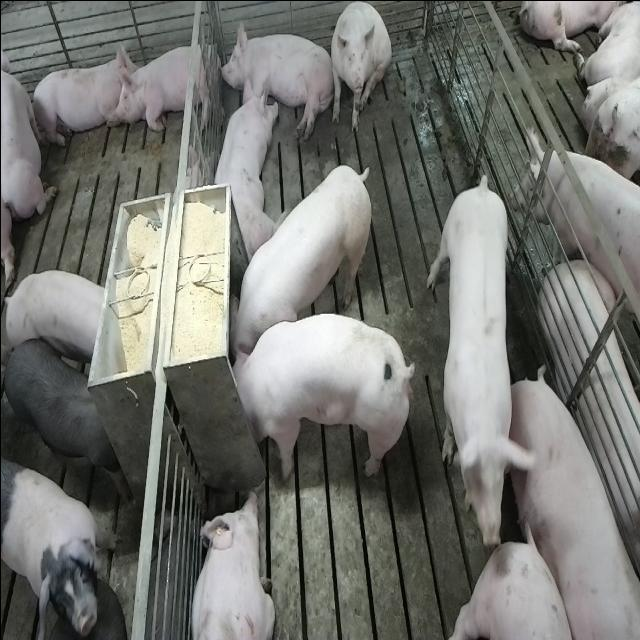Feeding: (230, 315, 416, 486), (228, 160, 377, 358)
Lateral_lying: (217, 17, 334, 142)
Sitting: (328, 1, 390, 134)
Standing: (428, 175, 526, 508), (518, 138, 640, 342), (2, 338, 131, 507), (3, 457, 113, 638), (5, 270, 110, 362)
Sternal_lying: (188, 485, 274, 640), (208, 72, 272, 258), (28, 46, 130, 150), (2, 36, 56, 222), (117, 36, 216, 134)
